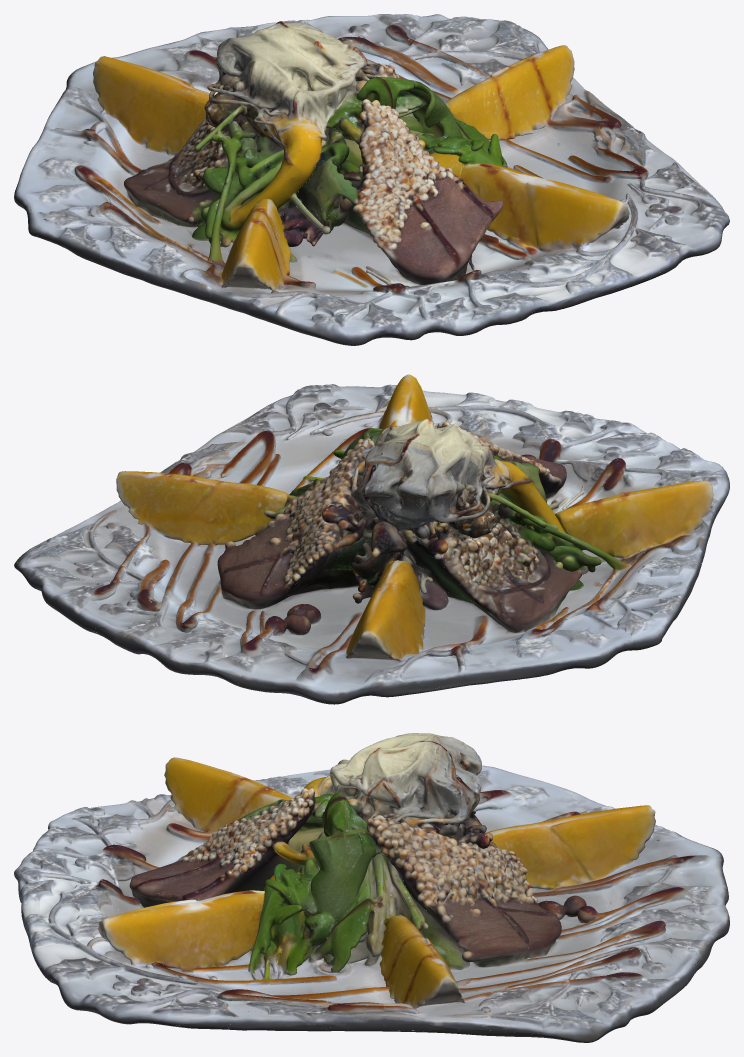
The model's file is veche.glb.
The picture shows the model from 3 angles, top to bottom: view 1: azimuth 30°, elevation 25°; view 2: azimuth 150°, elevation 25°; view 3: azimuth 270°, elevation 25°; orthographic projection. The views are drawn at different scales.
Visible parts, largest first — view 1: til; view 2: til; view 3: til.
Boxes of the visible parts, x1,y1,x2,y2 form: til: [14, 14, 729, 345]; til: [14, 374, 729, 704]; til: [14, 733, 729, 1042].
Size of the model in its own units: 0.895 by 0.2582 by 0.9814.
Materials: 1 (1 with a texture image).
